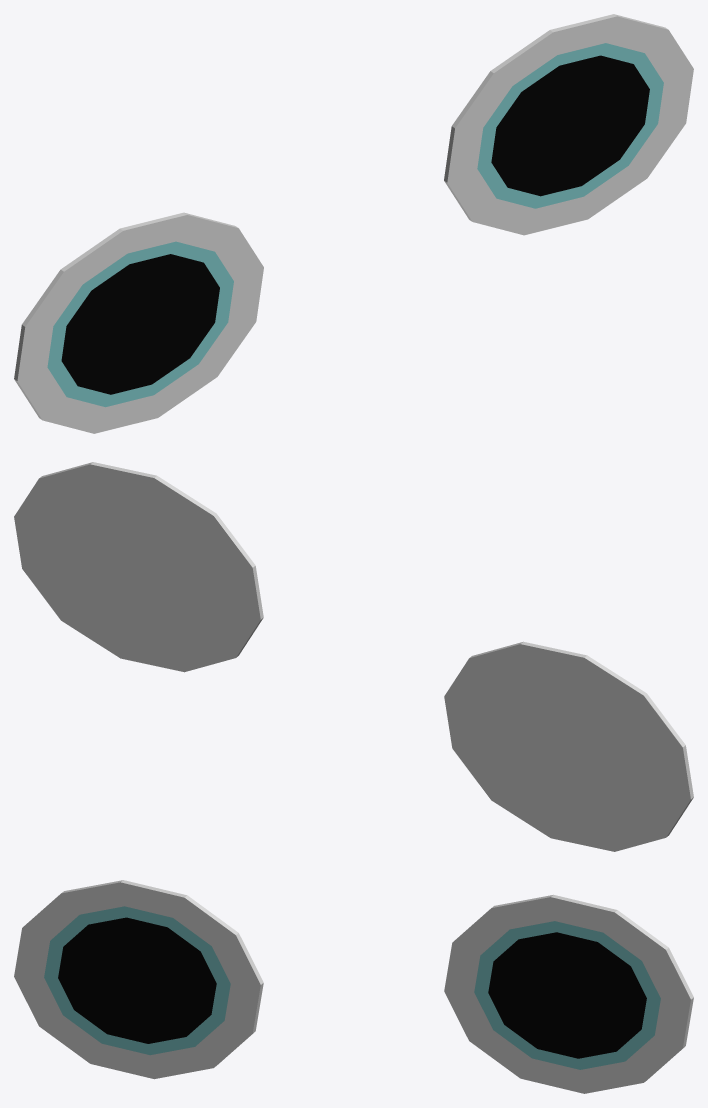
The model's file is emarV-X1_Animation_3.fbx.
The picture shows the model from 3 angles, top to bottom: view 1: azimuth 30°, elevation 25°; view 2: azimuth 150°, elevation 25°; view 3: azimuth 330°, elevation 25°; orthographic projection. The views are drawn at different scales.
Parts seen in each view (by area): view 1: Left Eye, Right Eye; view 2: Left Eye, Right Eye; view 3: Left Eye, Right Eye.
Part boxes in pixels (box(x1,y1,x2,y2)): Left Eye: box(444, 14, 693, 235); Right Eye: box(14, 212, 263, 433); Left Eye: box(14, 462, 263, 672); Right Eye: box(444, 641, 693, 851); Left Eye: box(444, 894, 693, 1093); Right Eye: box(14, 880, 263, 1079).
Bounding box in the file's own units: 24.26 × 9.46 × 0.9872.
